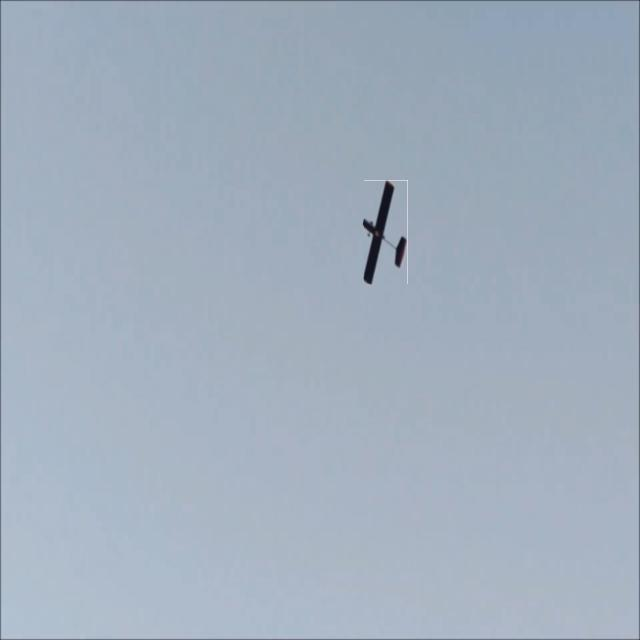iha: (345, 167, 403, 311)
